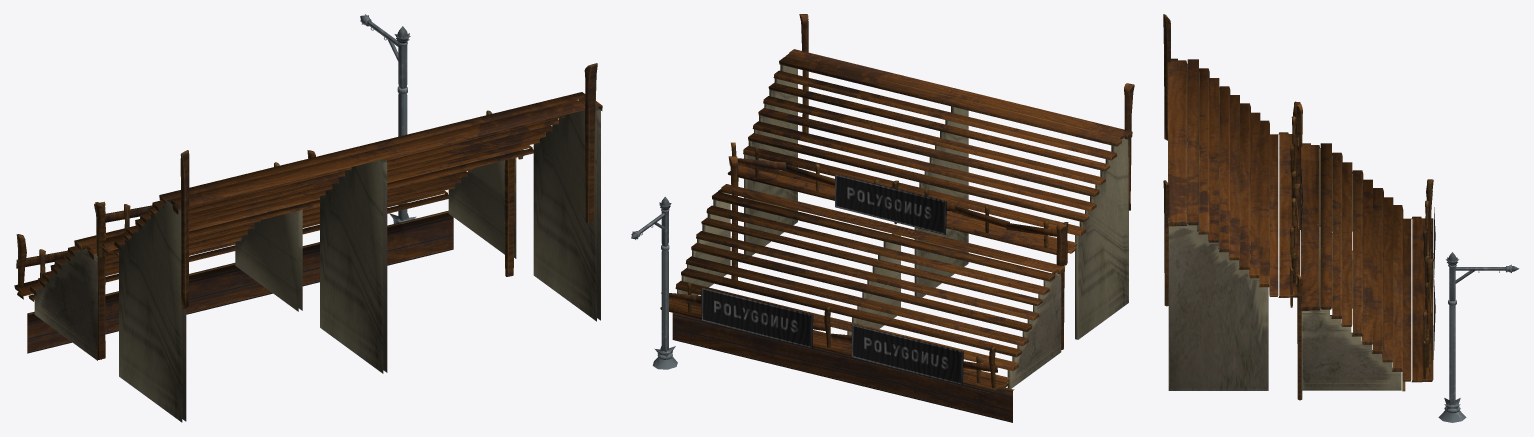
File: SM_WBT_stadiumChairs_low.fbx
3 renders of one model, left to right at view 1: azimuth 30°, elevation 25°; view 2: azimuth 150°, elevation 25°; view 3: azimuth 270°, elevation 25°, orthographic. The views are drawn at different scales.
Parts seen in each view (by area): view 1: SM_WBT_stadiumChairs_low; view 2: SM_WBT_stadiumChairs_low; view 3: SM_WBT_stadiumChairs_low.
Boxes of the visible parts, x1,y1,x2,y2 form: SM_WBT_stadiumChairs_low: [14, 14, 602, 422]; SM_WBT_stadiumChairs_low: [631, 14, 1134, 422]; SM_WBT_stadiumChairs_low: [1163, 14, 1519, 422].
Size of the model in its own units: 1700 by 1561 by 1200.
